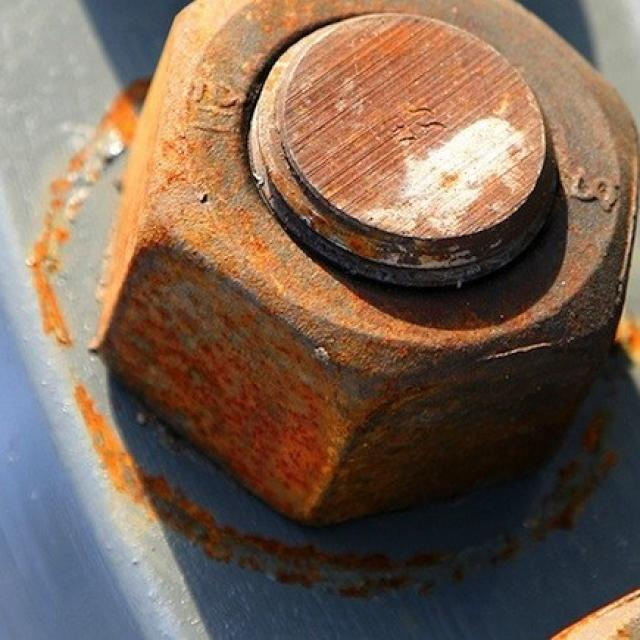bolt nut: (90, 3, 637, 525)
